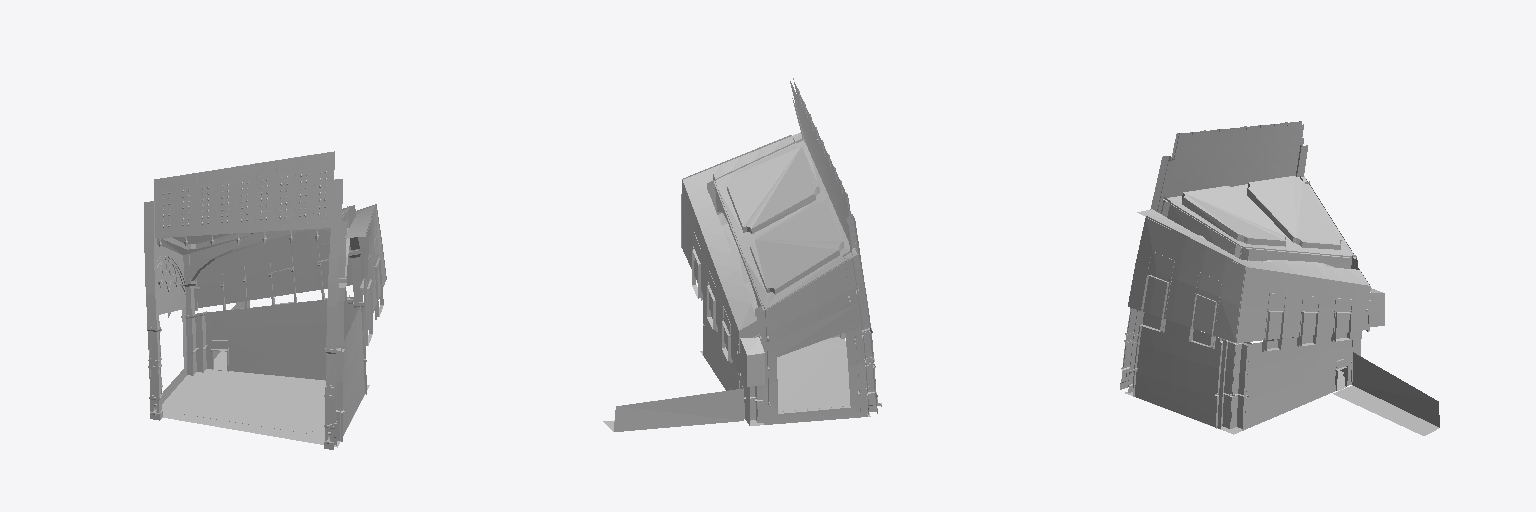
File: ma_room.obj
3 renders of one model, left to right at view 1: azimuth 30°, elevation 25°; view 2: azimuth 150°, elevation 25°; view 3: azimuth 270°, elevation 25°, orthographic.
Parts seen in each view (by area): view 1: ma_room; view 2: ma_room; view 3: ma_room.
Part boxes in pixels (x1,y1,x2,y2): ma_room: (144, 151, 386, 449); ma_room: (603, 78, 881, 431); ma_room: (1120, 121, 1439, 435).
Size of the model in its own units: 2943 by 3515 by 3756.